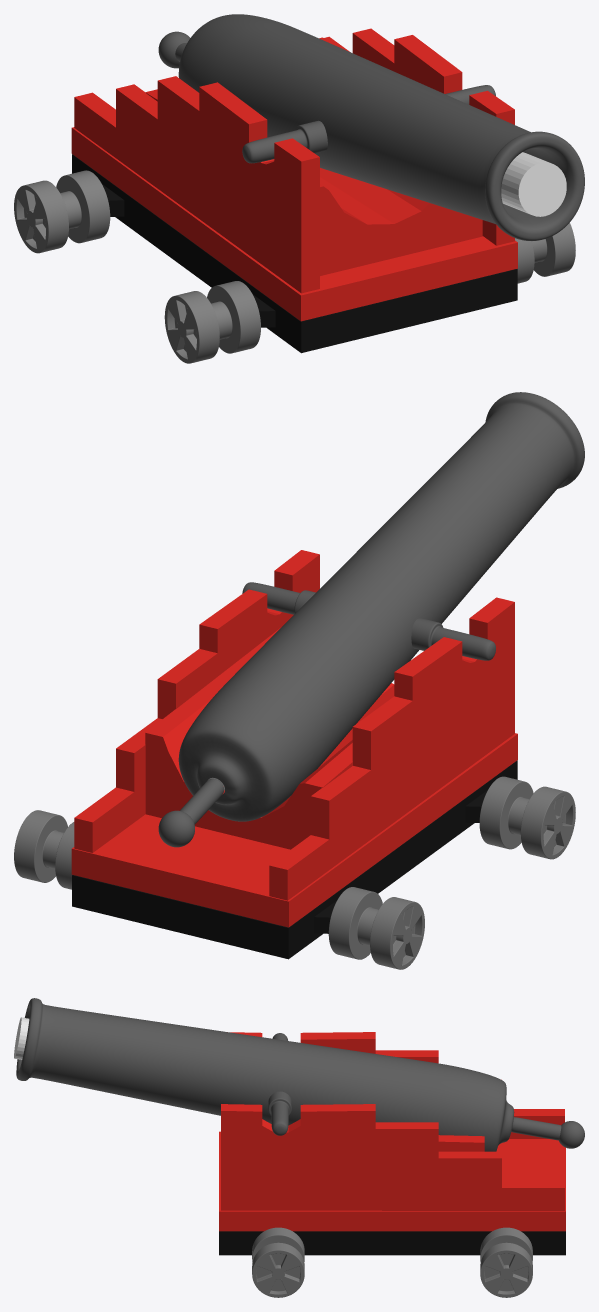
Rendered from lego_cannon.glb.
3 renders of one model, top to bottom at view 1: azimuth 30°, elevation 25°; view 2: azimuth 150°, elevation 25°; view 3: azimuth 270°, elevation 25°, orthographic. The views are drawn at different scales.
Parts seen in each view (by area): view 1: Cannon, Cannon-5, Cannon-3, Cannon-6, Cannon-1, Cannon-2, Shoot, Cannon-4; view 2: Cannon, Cannon-5, Cannon-3, Cannon-6, Cannon-1, Cannon-2, Cannon-4; view 3: Cannon, Cannon-5, Cannon-3, Cannon-6, Cannon-1, Cannon-4, Cannon-2, Shoot.
Boxes of the visible parts, left/top/right/bottom form: Cannon: left=158, top=14, right=584, bottom=240; Cannon-5: left=74, top=28, right=514, bottom=293; Cannon-3: left=71, top=127, right=517, bottom=321; Cannon-6: left=14, top=170, right=575, bottom=363; Cannon-1: left=72, top=154, right=517, bottom=353; Cannon-2: left=145, top=37, right=482, bottom=275; Shoot: left=501, top=152, right=566, bottom=216; Cannon-4: left=242, top=85, right=495, bottom=163; Cannon: left=158, top=392, right=584, bottom=847; Cannon-5: left=74, top=550, right=514, bottom=900; Cannon-3: left=71, top=733, right=517, bottom=927; Cannon-6: left=14, top=776, right=575, bottom=969; Cannon-1: left=72, top=760, right=517, bottom=959; Cannon-2: left=145, top=627, right=394, bottom=849; Cannon-4: left=242, top=582, right=495, bottom=660; Cannon: left=16, top=998, right=584, bottom=1151; Cannon-5: left=221, top=1032, right=564, bottom=1210; Cannon-3: left=219, top=1131, right=565, bottom=1231; Cannon-6: left=252, top=1227, right=532, bottom=1297; Cannon-1: left=219, top=1231, right=565, bottom=1255; Cannon-4: left=268, top=1033, right=291, bottom=1135; Cannon-2: left=438, top=1135, right=484, bottom=1151; Shoot: left=14, top=1017, right=29, bottom=1059.
Size of the model in its own units: 2.73 by 2.07 by 4.74.
